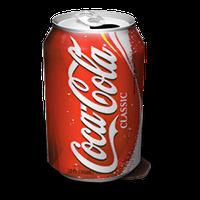coke: (41, 9, 141, 181)
